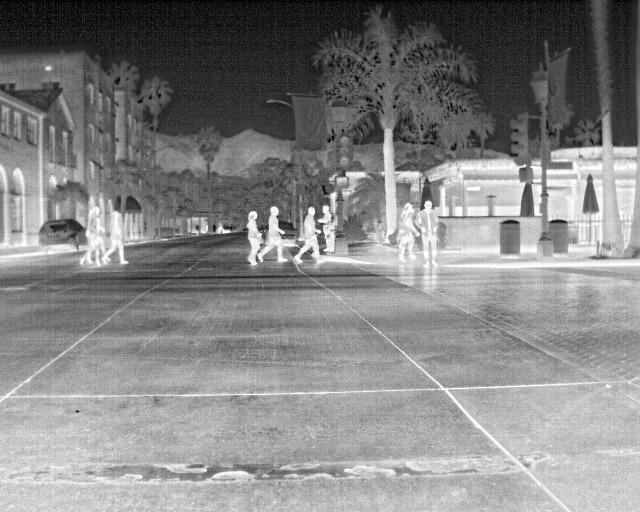bicycle: (37, 217, 86, 253), (277, 220, 300, 244)
empty: (289, 203, 323, 268), (256, 201, 288, 269), (395, 202, 421, 267), (102, 208, 132, 264), (82, 204, 104, 267), (417, 200, 437, 268), (244, 211, 260, 269), (317, 206, 334, 252)
